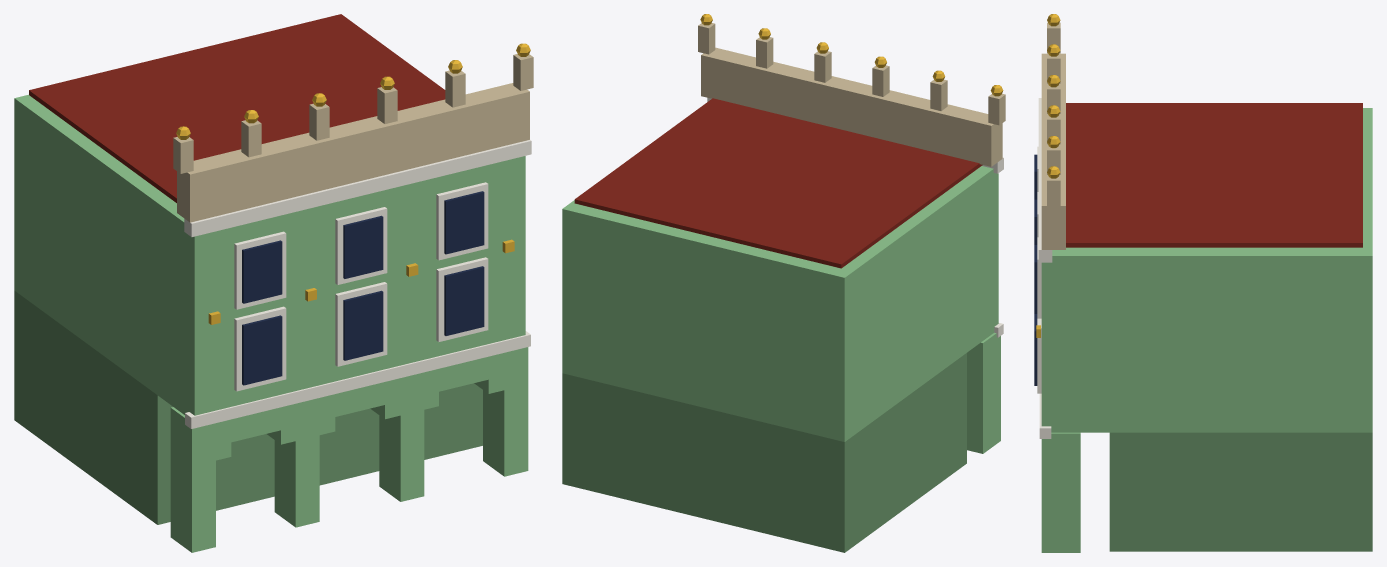
The model's file is kamienica_3.glb.
The picture shows the model from 3 angles, left to right: view 1: azimuth 30°, elevation 25°; view 2: azimuth 150°, elevation 25°; view 3: azimuth 270°, elevation 25°; orthographic projection. The views are drawn at different scales.
Parts seen in each view (by area): view 1: kamienica_3; view 2: kamienica_3; view 3: kamienica_3.
Part boxes in pixels (<box>): kamienica_3: <box>14,14,533,552</box>; kamienica_3: <box>562,14,1005,552</box>; kamienica_3: <box>1034,14,1372,552</box>.
Size of the model in its own units: 3.84 by 4.39 by 3.48.
